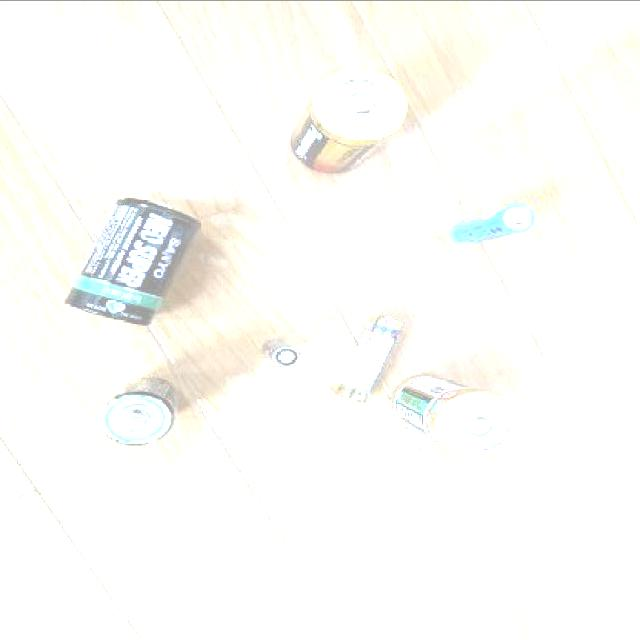AA: (332, 312, 410, 408), (448, 202, 540, 248)
AAA: (263, 335, 303, 371)
